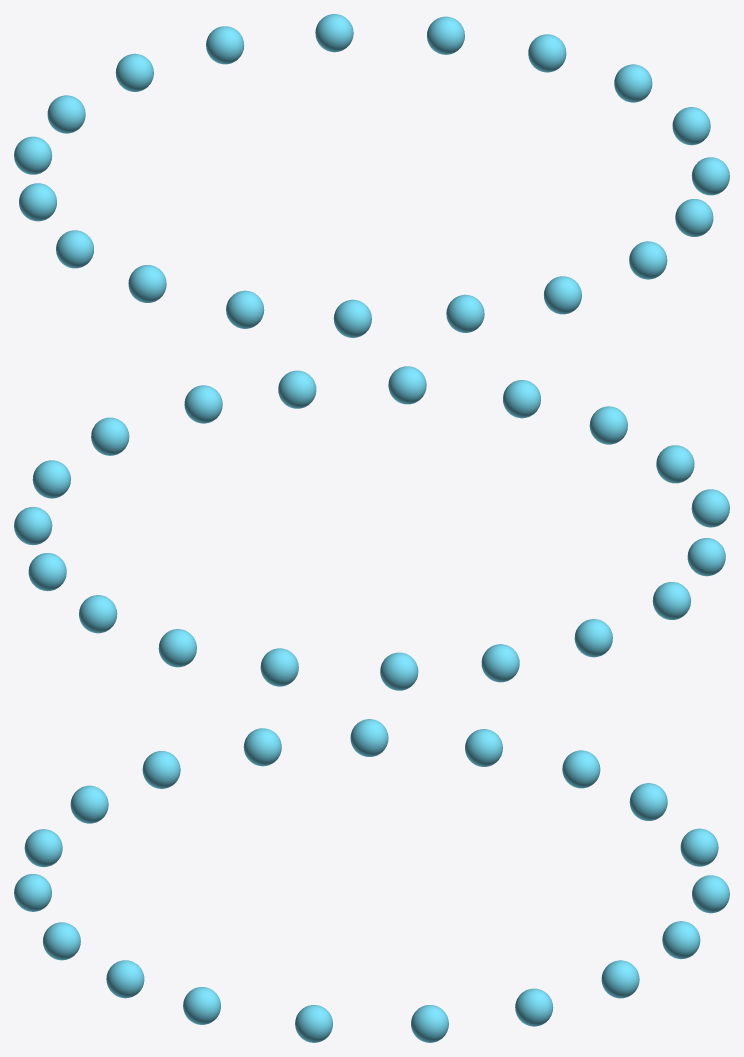
The picture shows the model from 3 angles, top to bottom: view 1: azimuth 30°, elevation 25°; view 2: azimuth 150°, elevation 25°; view 3: azimuth 270°, elevation 25°; orthographic projection.
Parts seen in each view (by area): view 1: Sphere049; view 2: Sphere049; view 3: Sphere049.
Boxes of the visible parts, left/top/right/bottom form: Sphere049: left=14, top=14, right=729, bottom=337; Sphere049: left=14, top=366, right=729, bottom=690; Sphere049: left=14, top=719, right=729, bottom=1042.
Size of the model in its own units: 154 by 8.22 by 154.
